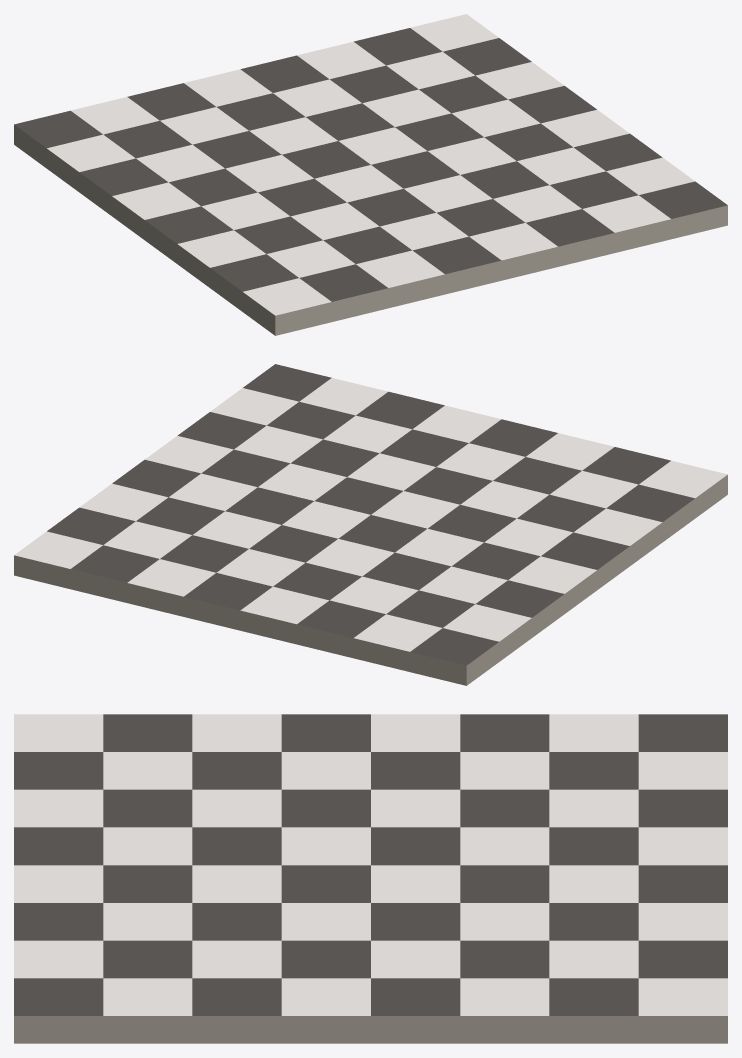
File: Floor_08.fbx
The picture shows the model from 3 angles, top to bottom: view 1: azimuth 30°, elevation 25°; view 2: azimuth 150°, elevation 25°; view 3: azimuth 270°, elevation 25°; orthographic projection. The views are drawn at different scales.
Visible parts, largest first — view 1: Floor_08; view 2: Floor_08; view 3: Floor_08.
Boxes of the visible parts, left/top/right/bottom form: Floor_08: left=14, top=14, right=727, bottom=335; Floor_08: left=14, top=364, right=727, bottom=685; Floor_08: left=14, top=714, right=727, bottom=1043.
Size of the model in its own units: 259 by 11.07 by 259.
